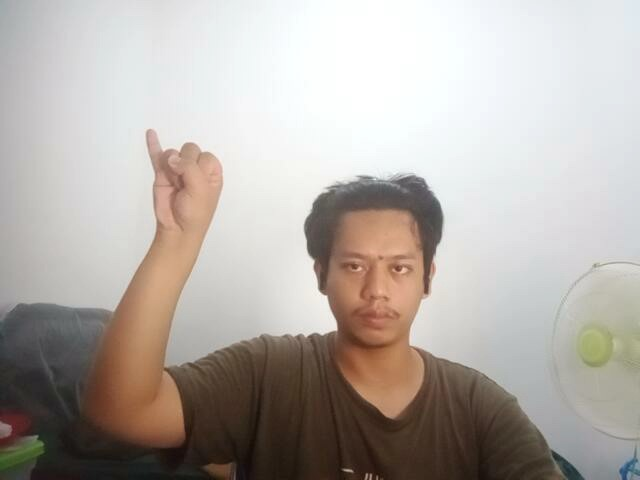I: (133, 118, 234, 242)
